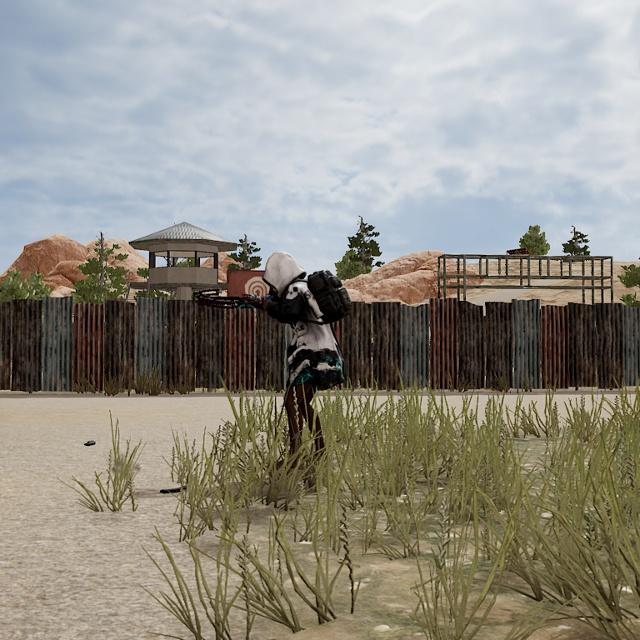head: (259, 245, 305, 297)
people: (243, 238, 350, 472)
